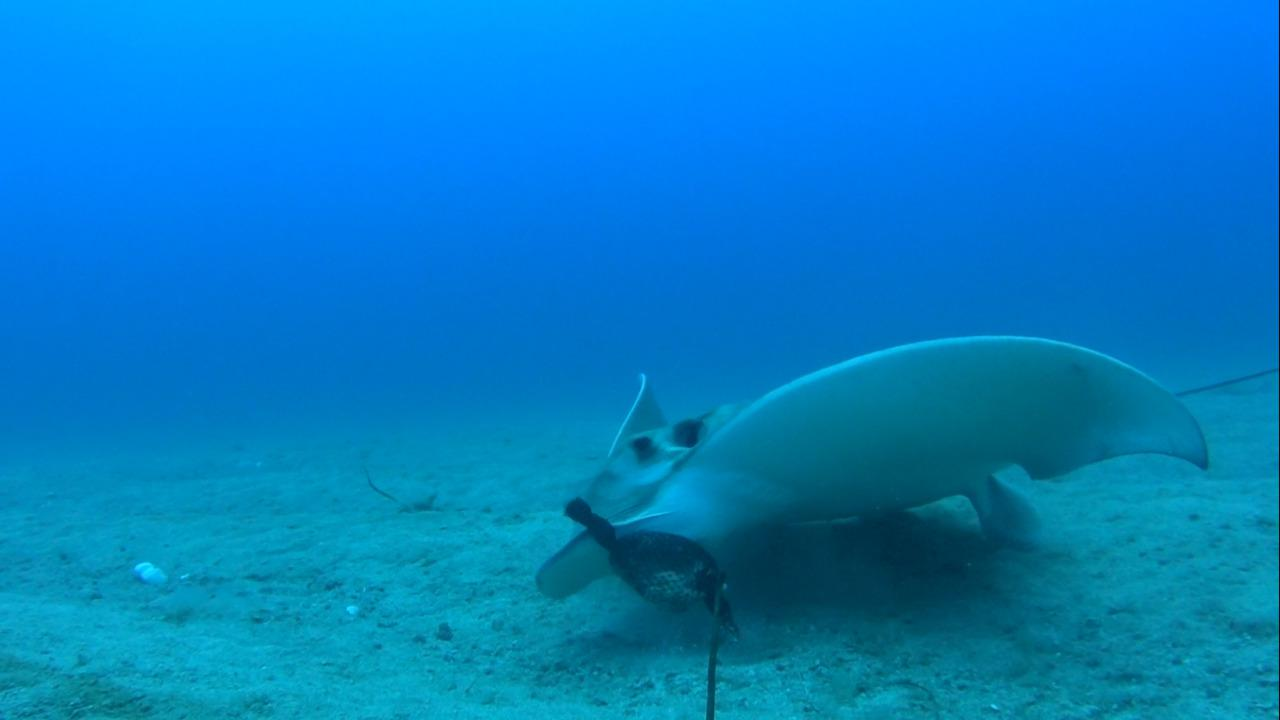myliobatis: (531, 326, 1279, 606)
